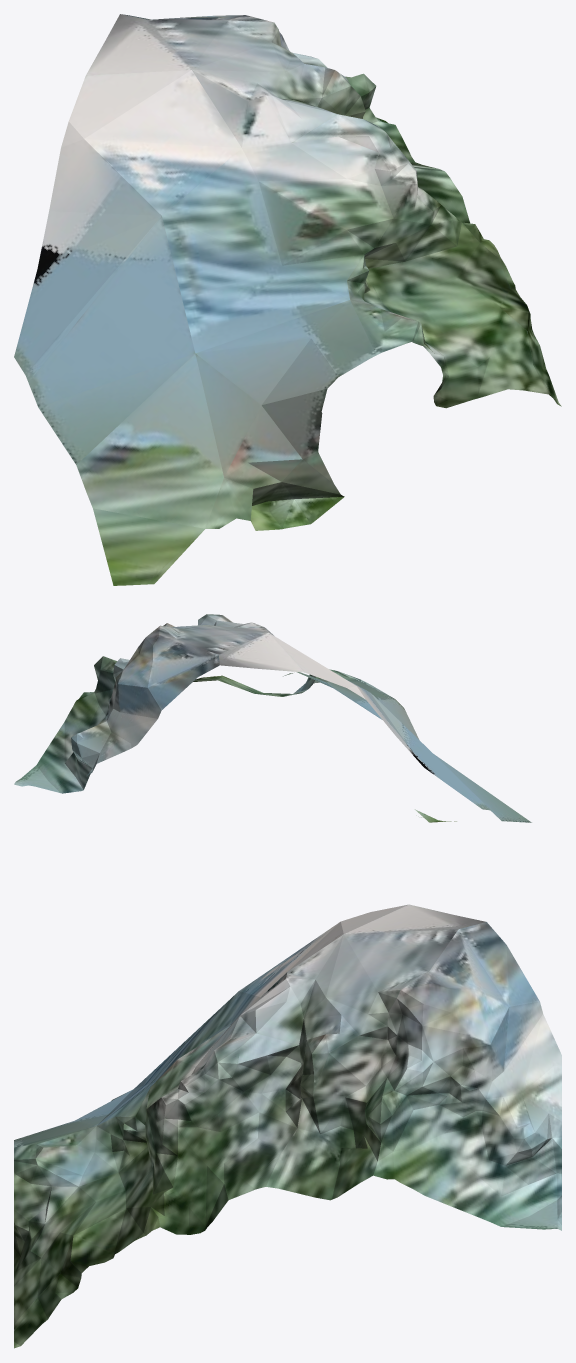
3 renders of one model, top to bottom at view 1: azimuth 30°, elevation 25°; view 2: azimuth 150°, elevation 25°; view 3: azimuth 270°, elevation 25°, orthographic. The views are drawn at different scales.
Size of the model in its own units: 3.35 by 2.65 by 3.35.
3 materials, 3 textured.
